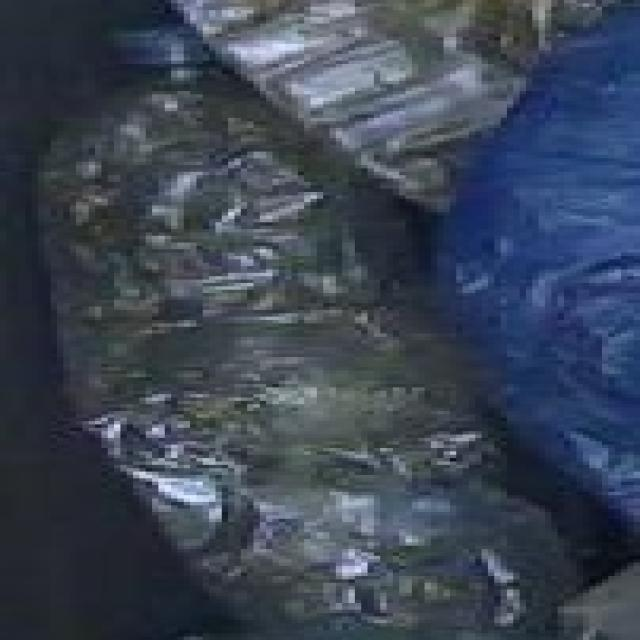litter: (28, 32, 586, 634)
